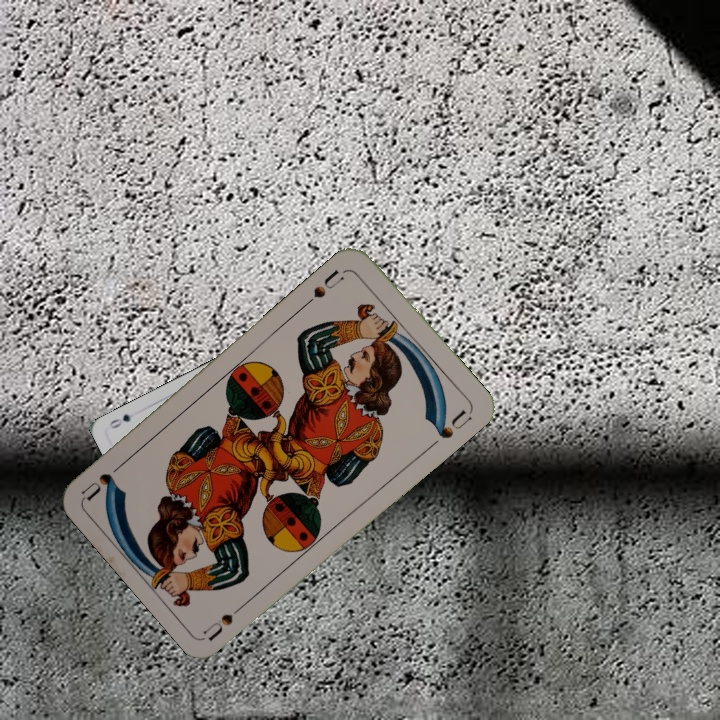SU: (200, 596, 252, 643), (301, 266, 347, 309)
